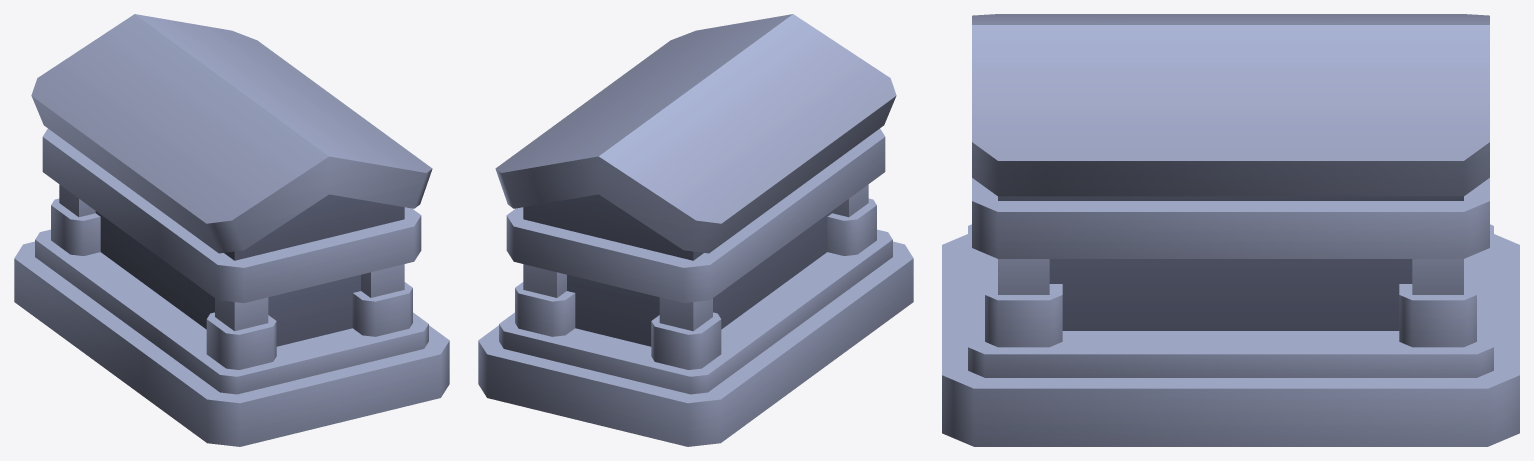
The model's file is k-graveyard-crypt.glb.
The picture shows the model from 3 angles, left to right: view 1: azimuth 30°, elevation 25°; view 2: azimuth 150°, elevation 25°; view 3: azimuth 270°, elevation 25°; orthographic projection. The views are drawn at different scales.
Parts seen in each view (by area): view 1: crypt; view 2: crypt; view 3: crypt.
Boxes of the visible parts, x1,y1,x2,y2 form: crypt: (14, 14, 449, 446); crypt: (478, 14, 913, 446); crypt: (942, 14, 1519, 446).
Bounding box in the file's own units: 0.7201 × 0.7315 × 1.12.
Materials: 1 (1 with a texture image).
